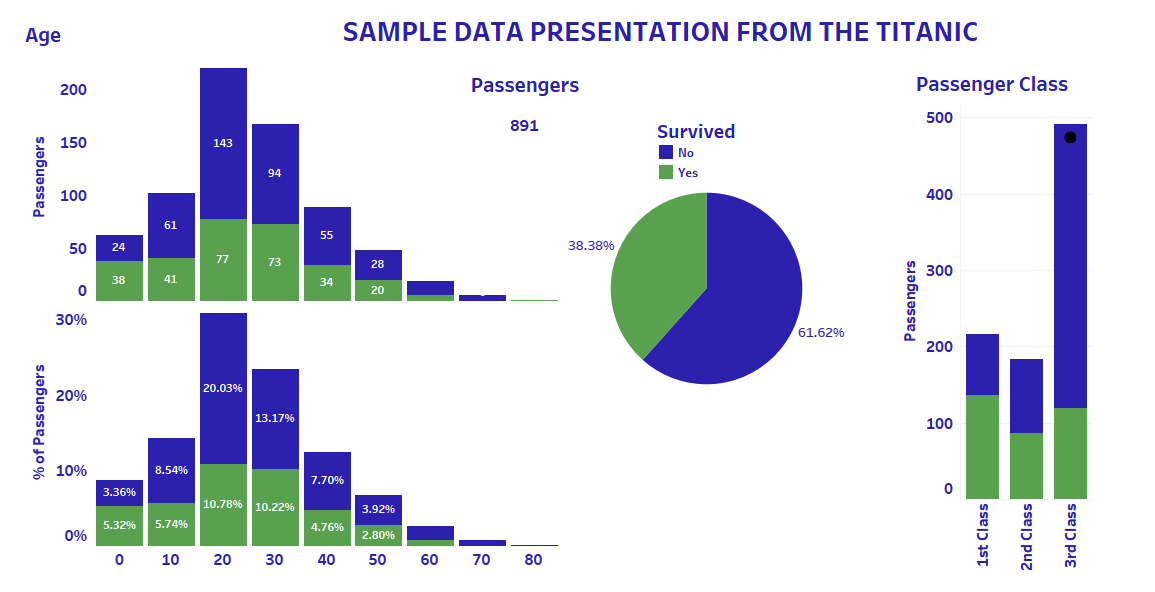

Layout of this report page (visuals, bound fields, positions):
{"tool":"tableau","page":{"name":"Dashboard 1","canvas":[1155,592],"ordinal":0},"visuals":[{"type":"text","box":[336,8,811,45]},{"type":"worksheet","title":"Age","mark":"Automatic","rows":["train.csv_4926FAA281CC4F7B98335706668035AC","train.csv_4926FAA281CC4F7B98335706668035AC"],"cols":["Age (bin)"],"box":[21,14,539,557]},{"type":"worksheet","title":"Passenger Class","mark":"Automatic","rows":["train.csv_4926FAA281CC4F7B98335706668035AC"],"cols":["Pclass"],"box":[892,63,200,516]},{"type":"worksheet","title":"Passengers","mark":"Automatic","box":[452,64,146,81]},{"type":"legend","title":"Age","param":"[federated.128xyi617hgw3r1h4og3s1xrcdvl].[none:Survived:ok]","box":[656,115,140,87]},{"type":"dashboard-object","box":[1063,130,14,14]},{"type":"worksheet","title":"Survived","mark":"Pie","box":[565,149,295,326]}]}

Visuals, with their boxes in screenshot pixels (x1, y1, x2, y2), scaled from the page's 1155x592 canvas onto the 1155x592 screenshot:
text: x1=336, y1=8, x2=1147, y2=53
"Age" worksheet: x1=21, y1=14, x2=560, y2=571
"Passenger Class" worksheet: x1=892, y1=63, x2=1092, y2=579
"Passengers" worksheet: x1=452, y1=64, x2=598, y2=145
"Age" legend: x1=656, y1=115, x2=796, y2=202
dashboard-object: x1=1063, y1=130, x2=1077, y2=144
"Survived" worksheet (Pie marks): x1=565, y1=149, x2=860, y2=475
